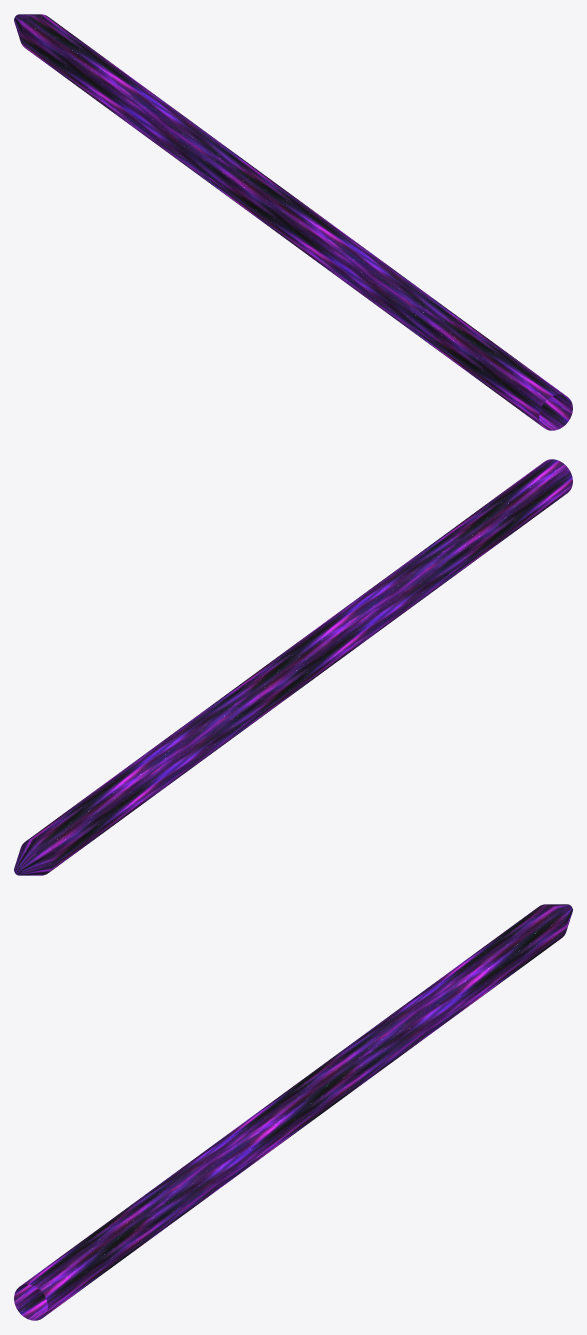
The model's file is spaceCylinder.glb.
The picture shows the model from 3 angles, top to bottom: view 1: azimuth 30°, elevation 25°; view 2: azimuth 150°, elevation 25°; view 3: azimuth 330°, elevation 25°; orthographic projection.
Visible parts, largest first — view 1: Cylinder; view 2: Cylinder; view 3: Cylinder.
Boxes of the visible parts, left/top/right/bottom form: Cylinder: left=14, top=14, right=572, bottom=430; Cylinder: left=14, top=459, right=572, bottom=875; Cylinder: left=14, top=904, right=572, bottom=1320.
Bounding box in the file's own units: 19.38 × 19.38 × 532.
1 material, 1 textured.
